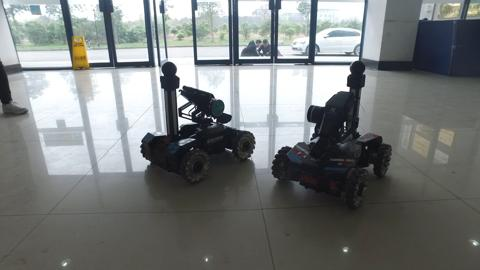chariot: (267, 55, 404, 211), (132, 61, 259, 185)
